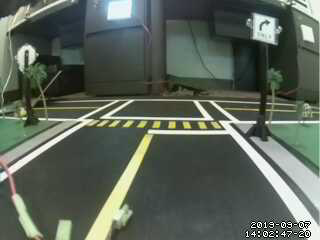Right_only_sign: (246, 10, 282, 50)
